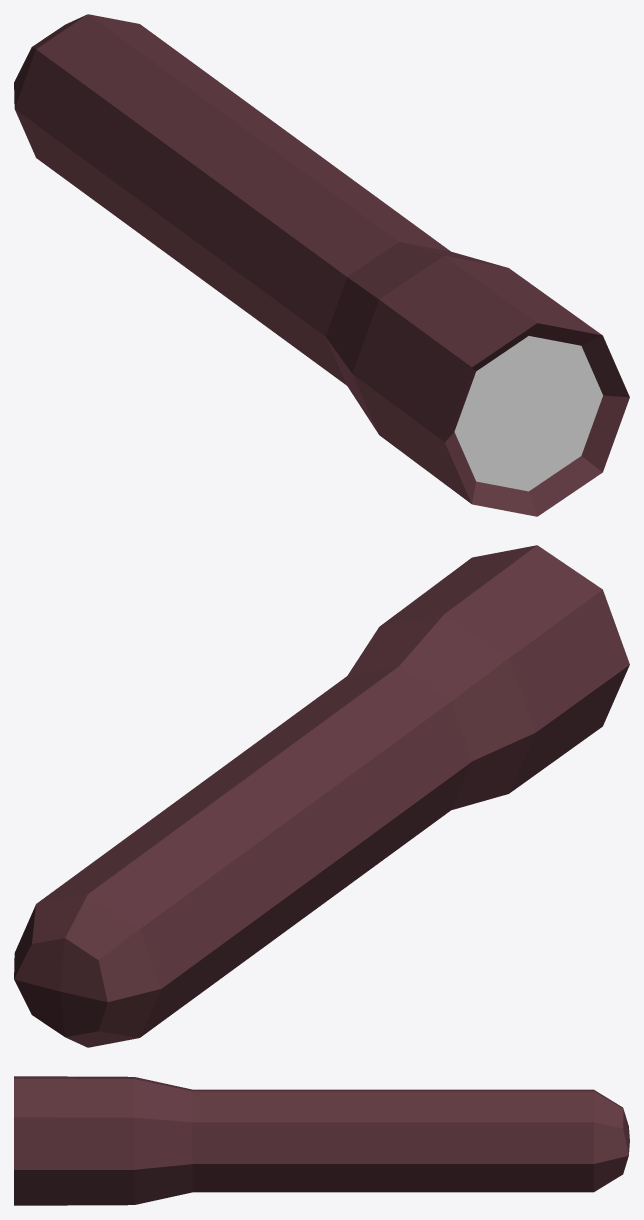
File: flashlight.fbx
3 renders of one model, top to bottom at view 1: azimuth 30°, elevation 25°; view 2: azimuth 150°, elevation 25°; view 3: azimuth 270°, elevation 25°, orthographic. The views are drawn at different scales.
Parts seen in each view (by area): view 1: flashlight; view 2: flashlight; view 3: flashlight.
Part boxes in pixels (<box>): flashlight: <box>14,14,629,516</box>; flashlight: <box>14,545,629,1047</box>; flashlight: <box>14,1076,629,1205</box>.
Bounding box in the file's own units: 0.063 × 0.063 × 0.2813.
